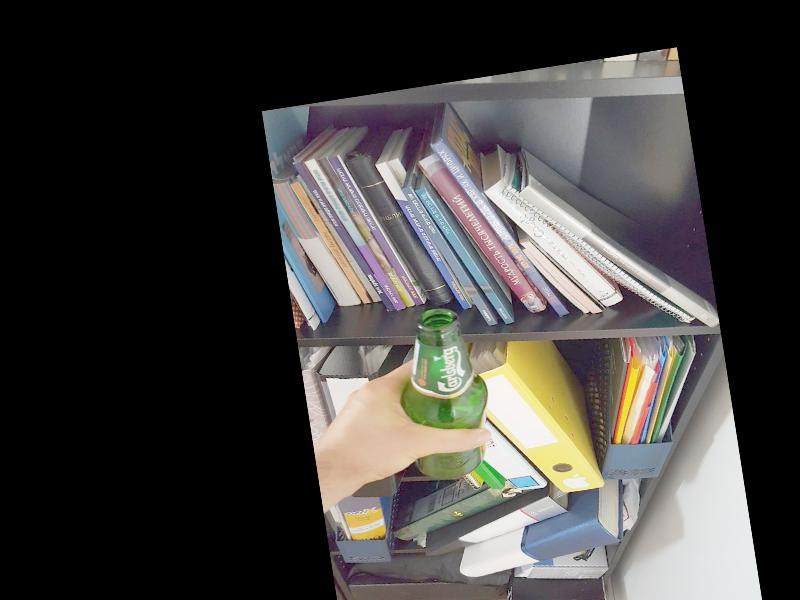Beer: (390, 303, 498, 486)
